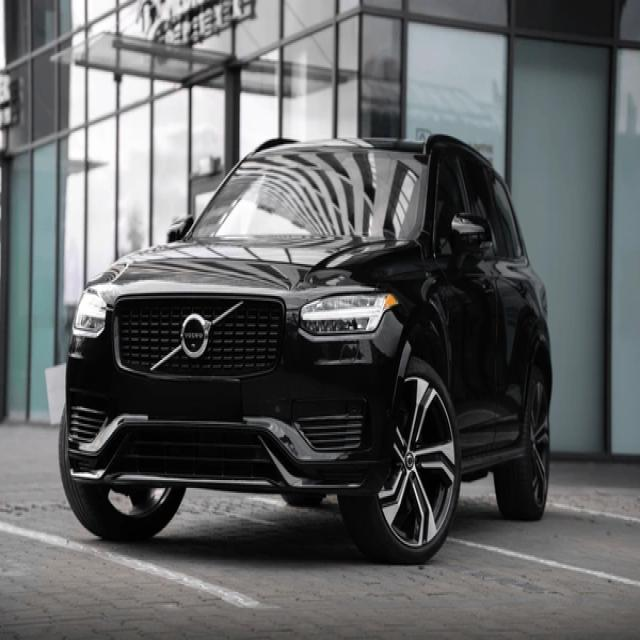volvo: (176, 314, 214, 357)
